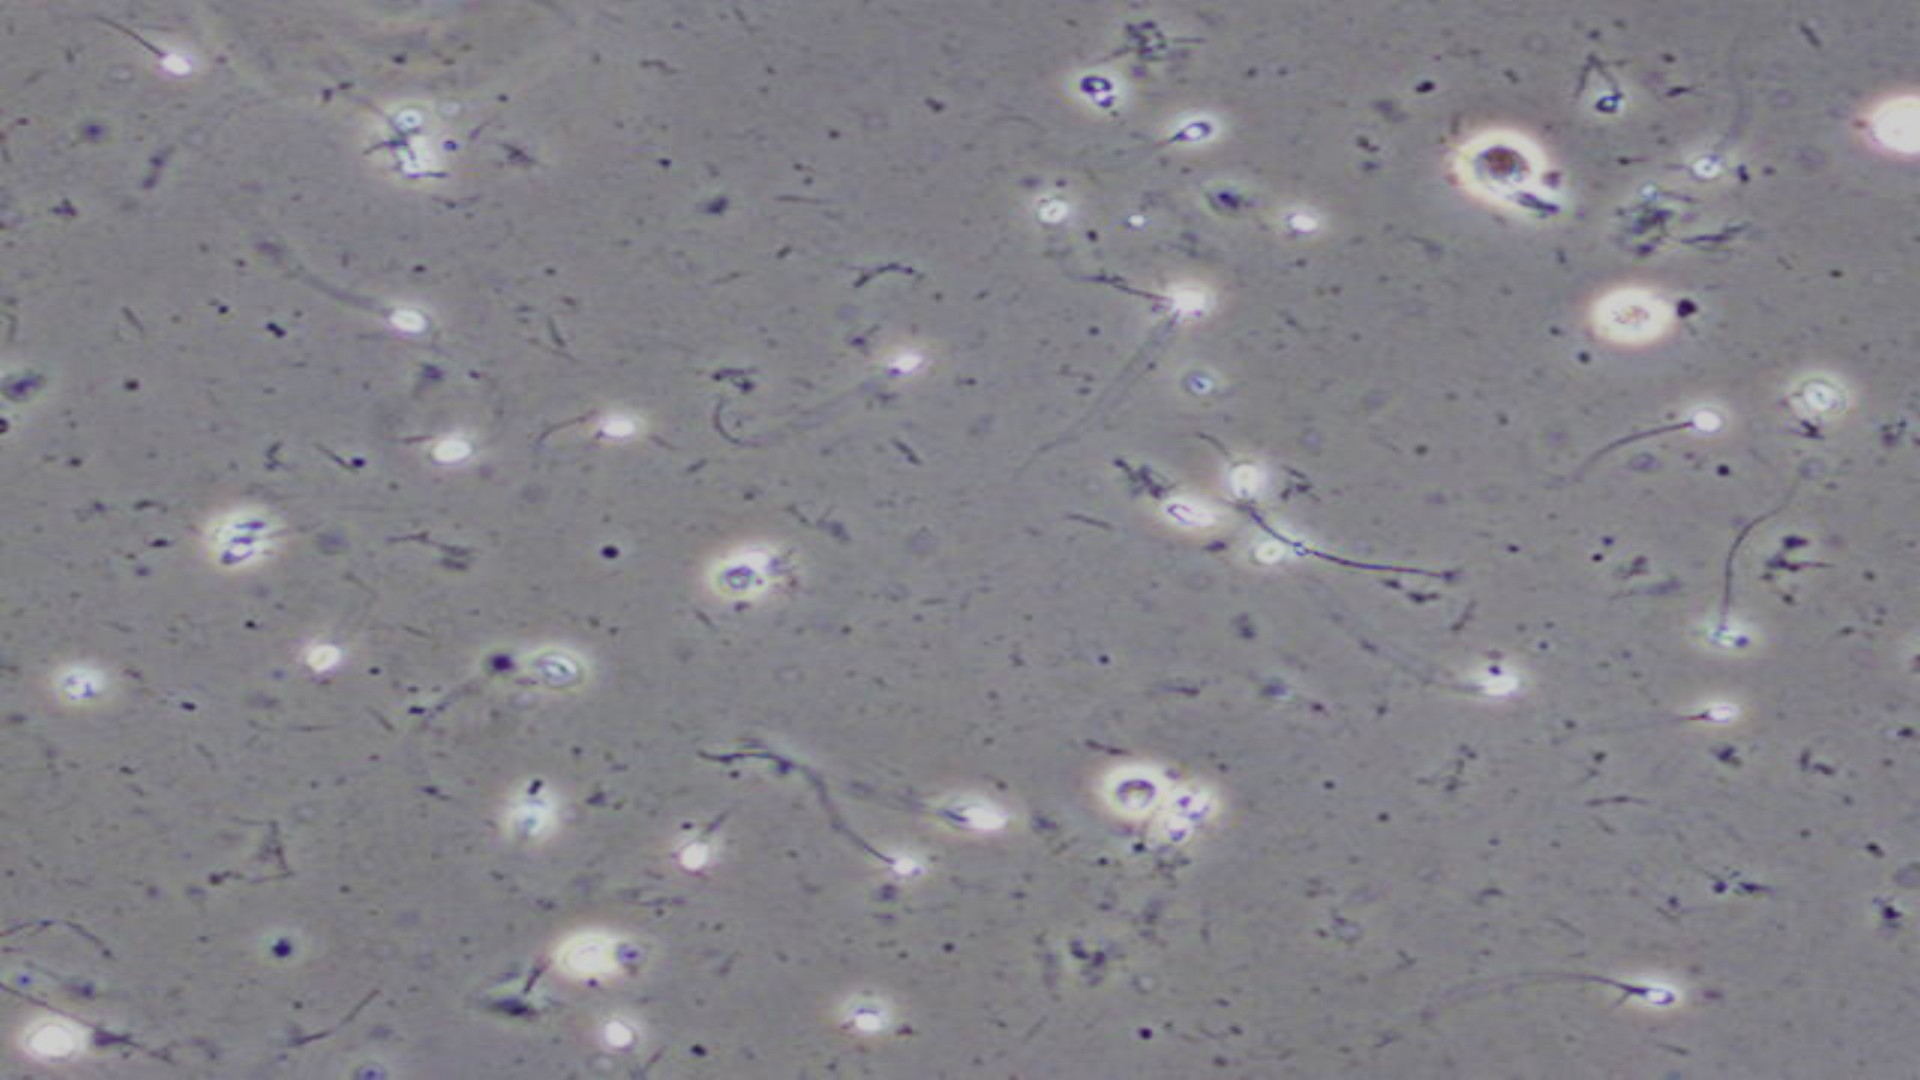sperm: (793, 774, 927, 884), (285, 243, 429, 342), (74, 7, 200, 94), (1697, 524, 1770, 659), (1515, 963, 1689, 1018), (1596, 415, 1722, 468), (1131, 117, 1242, 175), (1602, 692, 1753, 732), (554, 411, 644, 477)
